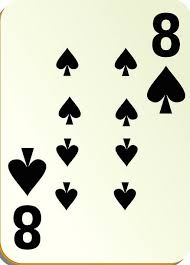eight of spades: (1, 2, 187, 265)
